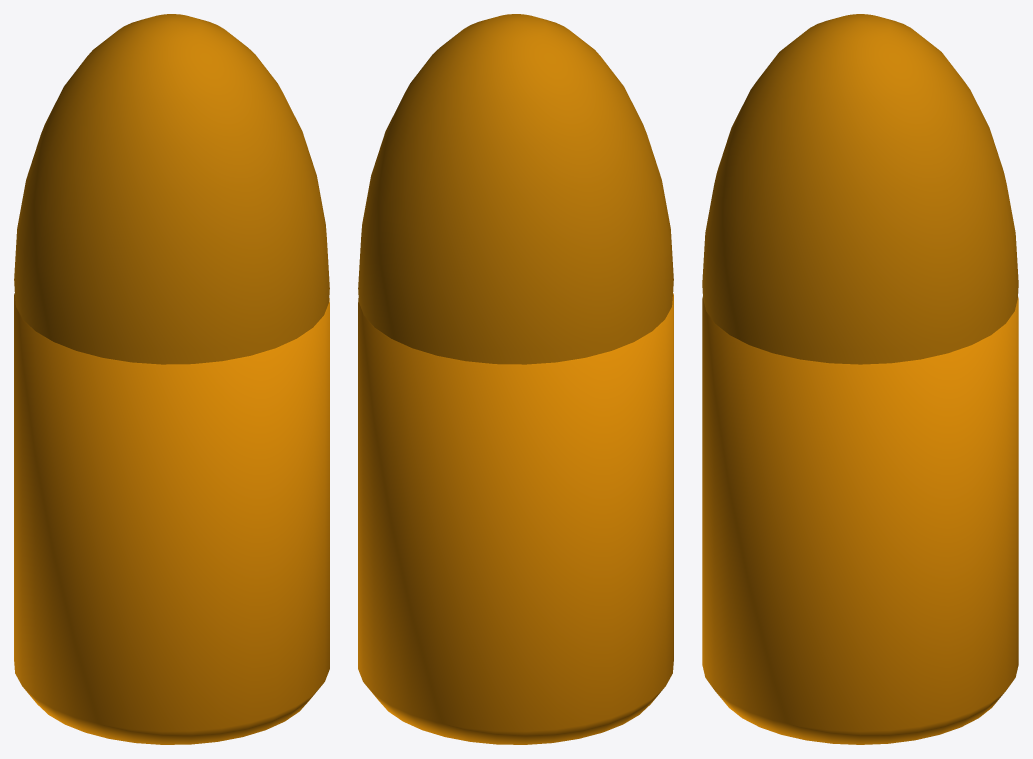
File: bullet.fbx
The picture shows the model from 3 angles, left to right: view 1: azimuth 30°, elevation 25°; view 2: azimuth 150°, elevation 25°; view 3: azimuth 270°, elevation 25°; orthographic projection.
Visible parts, largest first — view 1: Cylinder, Sphere; view 2: Cylinder, Sphere; view 3: Cylinder, Sphere.
Boxes of the visible parts, box(x1,y1,x2,y2) form: Cylinder: box(14, 293, 329, 744); Sphere: box(14, 14, 329, 364); Cylinder: box(358, 293, 673, 744); Sphere: box(358, 14, 673, 364); Cylinder: box(702, 297, 1018, 744); Sphere: box(702, 14, 1018, 364).
Bounding box in the file's own units: 180 × 416 × 180.
